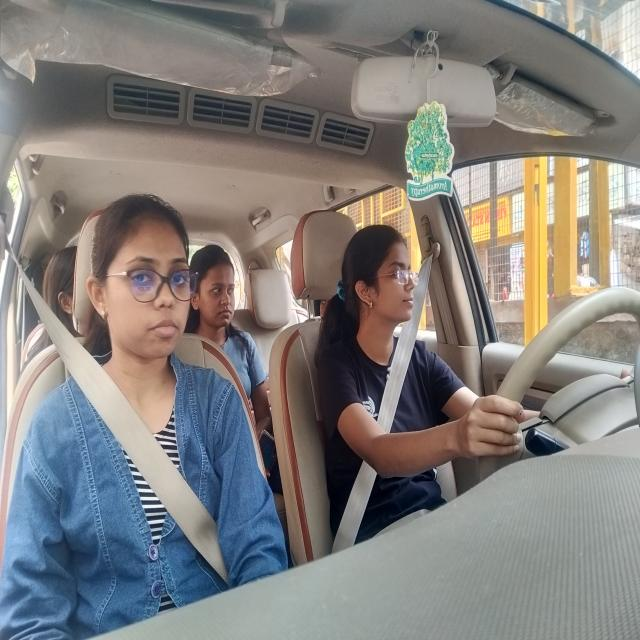person: (90, 190, 194, 369), (342, 221, 417, 343), (195, 244, 241, 349)
